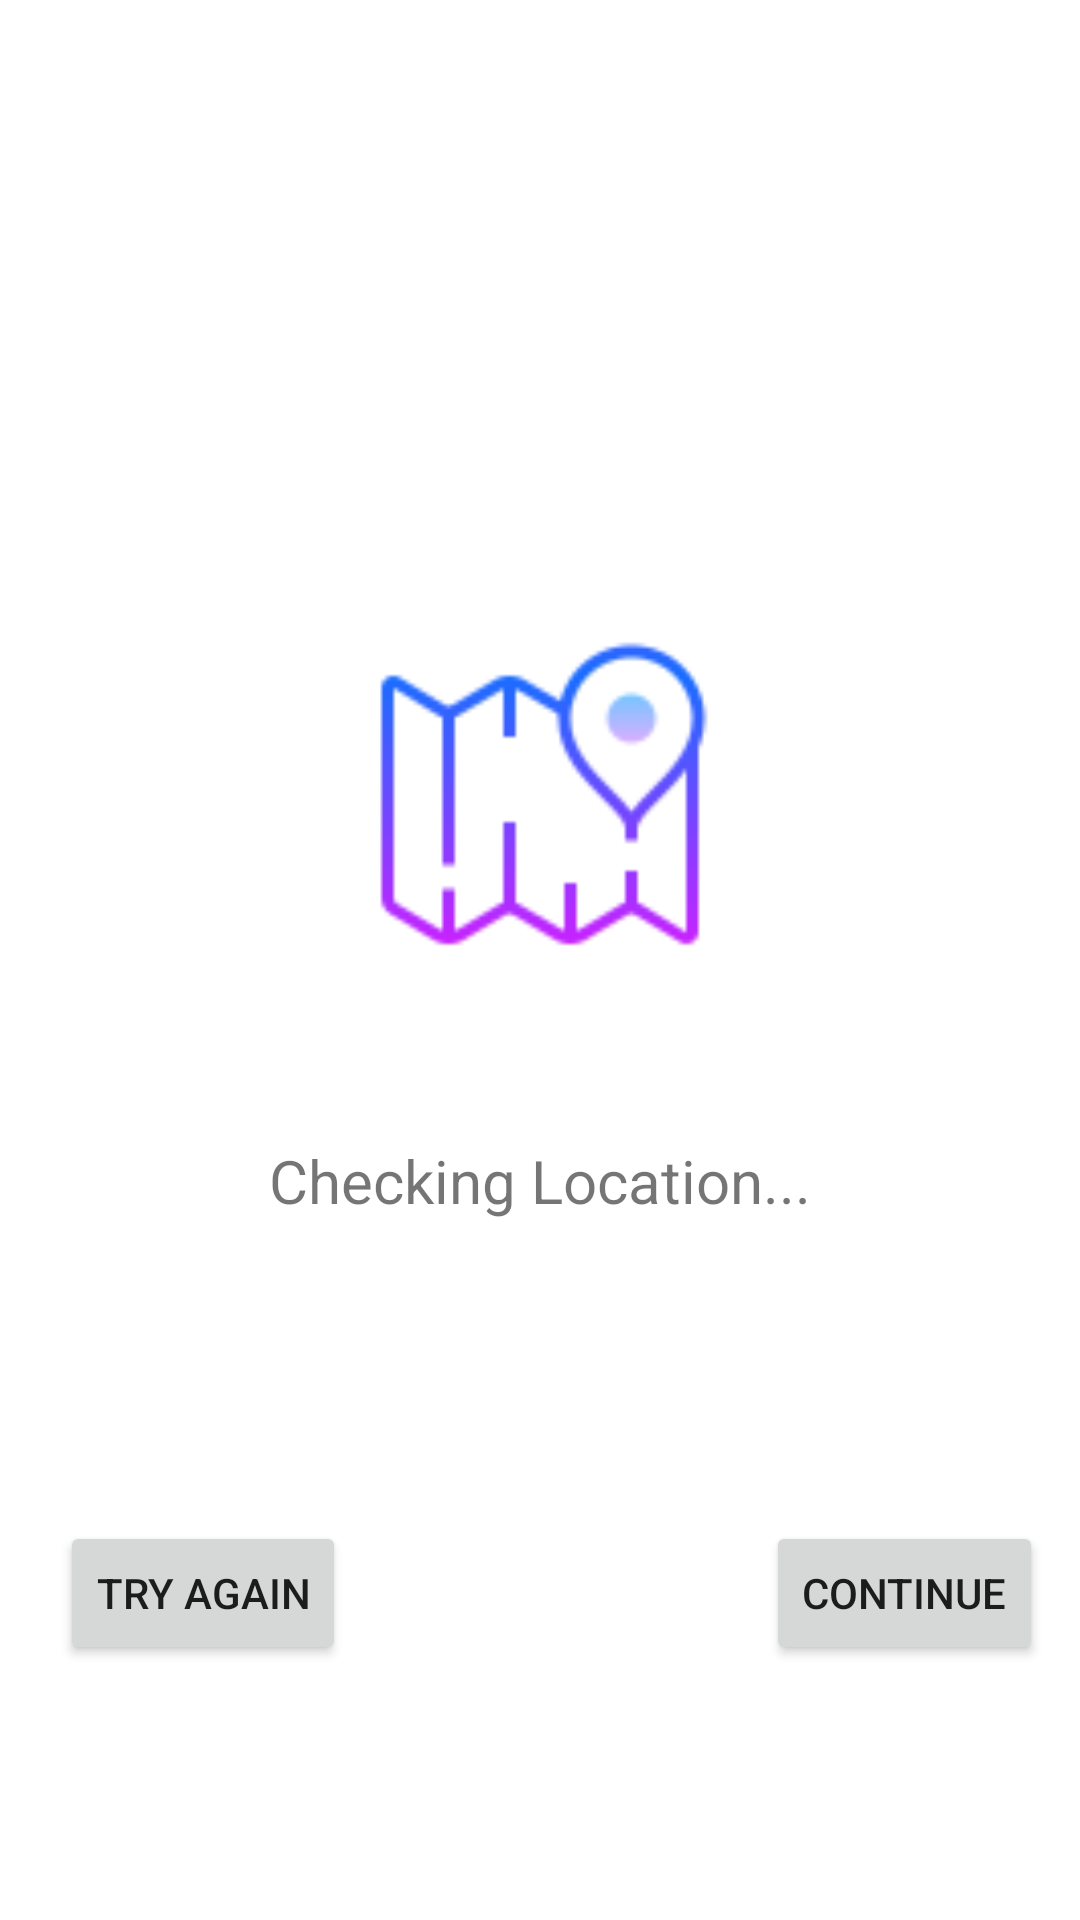

Point at icon controls on the screen. Image size 1080 x 1920, points as (x,y).
map: (544,794)
